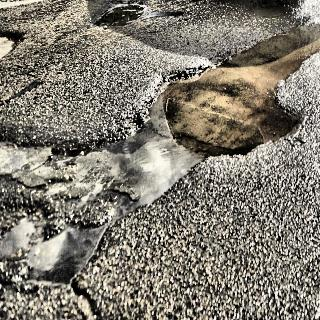pothole: (1, 19, 320, 293), (90, 0, 146, 27), (0, 23, 24, 56)
